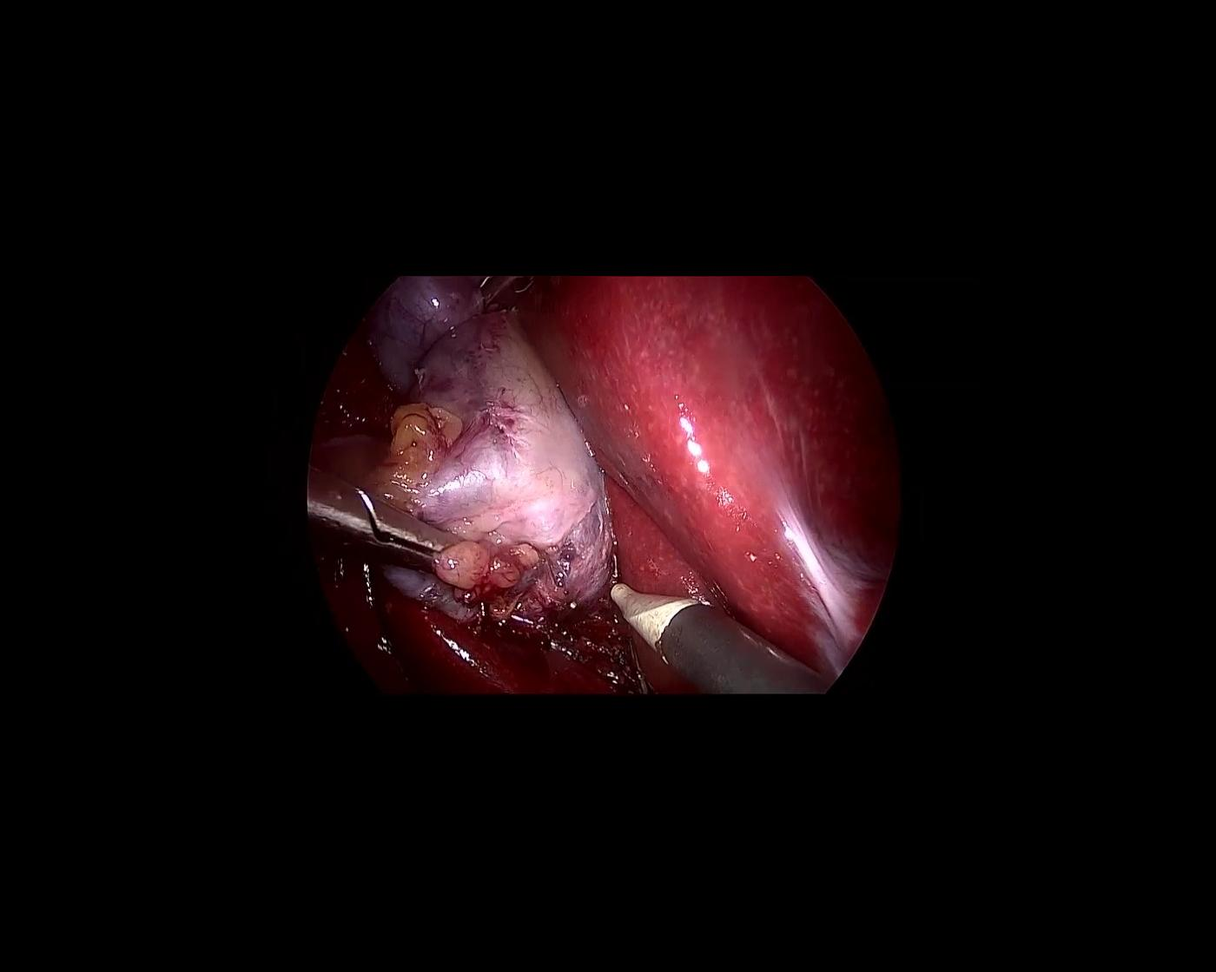Cautery: (573, 548, 835, 748)
Forceps: (283, 462, 466, 592)
Gallbladder: (350, 252, 625, 652)
Liver: (509, 180, 972, 739), (297, 546, 640, 774)
